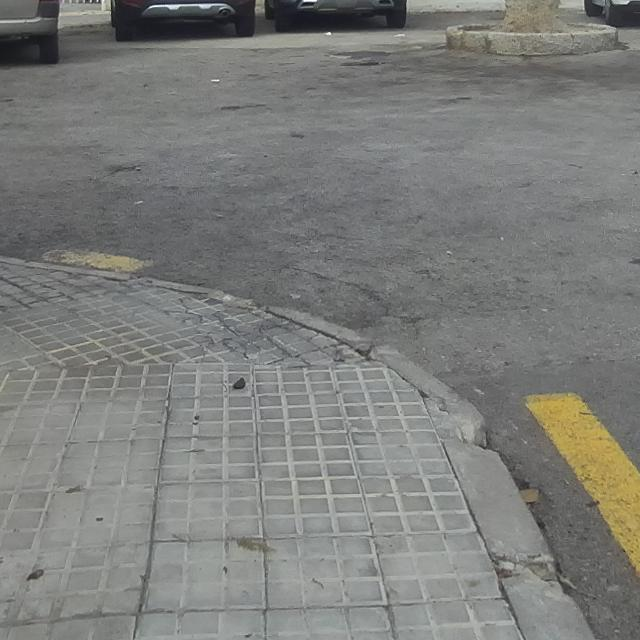calcada_quebrada: (255, 322, 322, 369), (162, 295, 207, 325), (207, 338, 251, 361), (208, 311, 244, 337)
